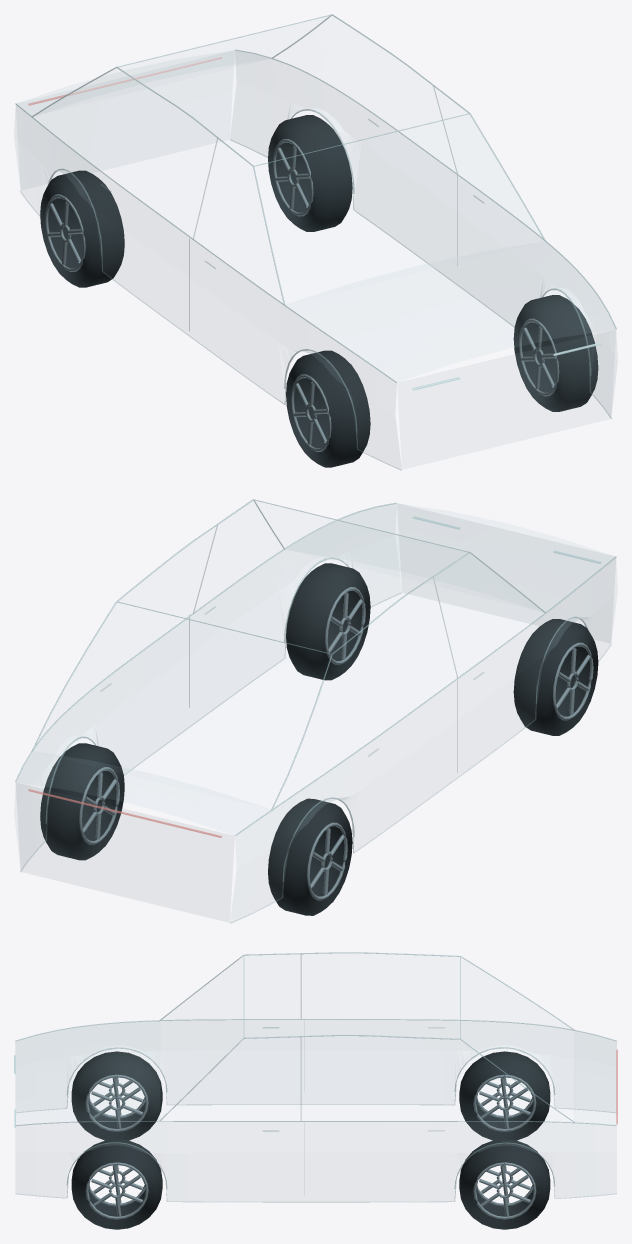
File: detected_vehicle.glb
3 views of the same model, one above another, from view 1: azimuth 30°, elevation 25°; view 2: azimuth 150°, elevation 25°; view 3: azimuth 270°, elevation 25° (orthographic). The views are drawn at different scales.
Parts seen in each view (by area): view 1: shell_body, shell_tyre_right_rear, shell_tyre_left_rear, shell_tyre_right_front, shell_tyre_left_front, shell_contours, shell_details, shell_rim_left_front, shell_rim_left_rear, shell_rim_right_rear, shell_rim_right_front; view 2: shell_body, shell_tyre_right_rear, shell_tyre_right_front, shell_tyre_left_front, shell_tyre_left_rear, shell_contours, shell_details, shell_rim_right_rear, shell_rim_right_front, shell_rim_left_rear, shell_rim_left_front; view 3: shell_body, shell_tyre_left_rear, shell_tyre_left_front, shell_tyre_right_rear, shell_tyre_right_front, shell_contours, shell_rim_left_front, shell_rim_right_rear, shell_rim_right_front, shell_rim_left_rear, shell_details.
Boxes of the visible parts, bbox=[...] form: shell_body: bbox=[16, 51, 615, 442]; shell_tyre_right_rear: bbox=[40, 170, 124, 287]; shell_tyre_left_rear: bbox=[268, 115, 352, 231]; shell_tyre_right_front: bbox=[286, 350, 370, 467]; shell_tyre_left_front: bbox=[513, 295, 598, 411]; shell_contours: bbox=[15, 14, 616, 432]; shell_details: bbox=[20, 86, 611, 470]; shell_rim_left_front: bbox=[518, 318, 559, 396]; shell_rim_left_rear: bbox=[272, 139, 313, 216]; shell_rim_right_rear: bbox=[45, 194, 85, 271]; shell_rim_right_front: bbox=[290, 374, 331, 451]; shell_body: bbox=[16, 503, 615, 892]; shell_tyre_right_rear: bbox=[268, 798, 352, 915]; shell_tyre_right_front: bbox=[513, 619, 598, 735]; shell_tyre_left_front: bbox=[286, 563, 370, 680]; shell_tyre_left_rear: bbox=[40, 743, 124, 860]; shell_contours: bbox=[15, 499, 616, 881]; shell_details: bbox=[20, 525, 611, 923]; shell_rim_right_rear: bbox=[307, 822, 347, 900]; shell_rim_right_front: bbox=[552, 642, 593, 720]; shell_rim_left_rear: bbox=[79, 767, 119, 844]; shell_rim_left_front: bbox=[325, 587, 365, 664]; shell_body: bbox=[15, 1021, 616, 1154]; shell_tyre_left_rear: bbox=[459, 1139, 550, 1229]; shell_tyre_left_front: bbox=[71, 1139, 162, 1229]; shell_tyre_right_rear: bbox=[459, 1051, 550, 1140]; shell_tyre_right_front: bbox=[71, 1051, 162, 1140]; shell_contours: bbox=[15, 952, 616, 1188]; shell_rim_left_front: bbox=[85, 1162, 148, 1219]; shell_rim_right_rear: bbox=[473, 1074, 536, 1131]; shell_rim_right_front: bbox=[85, 1074, 148, 1131]; shell_rim_left_rear: bbox=[473, 1162, 536, 1219]; shell_details: bbox=[15, 954, 616, 1202].
Size of the model in its own units: 1.9 by 1.61 by 4.67.
